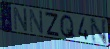4: (77, 16, 90, 42)
N: (89, 18, 108, 46), (13, 6, 29, 33), (29, 8, 44, 35)
Q: (59, 14, 76, 41)
Z: (44, 11, 60, 38)
